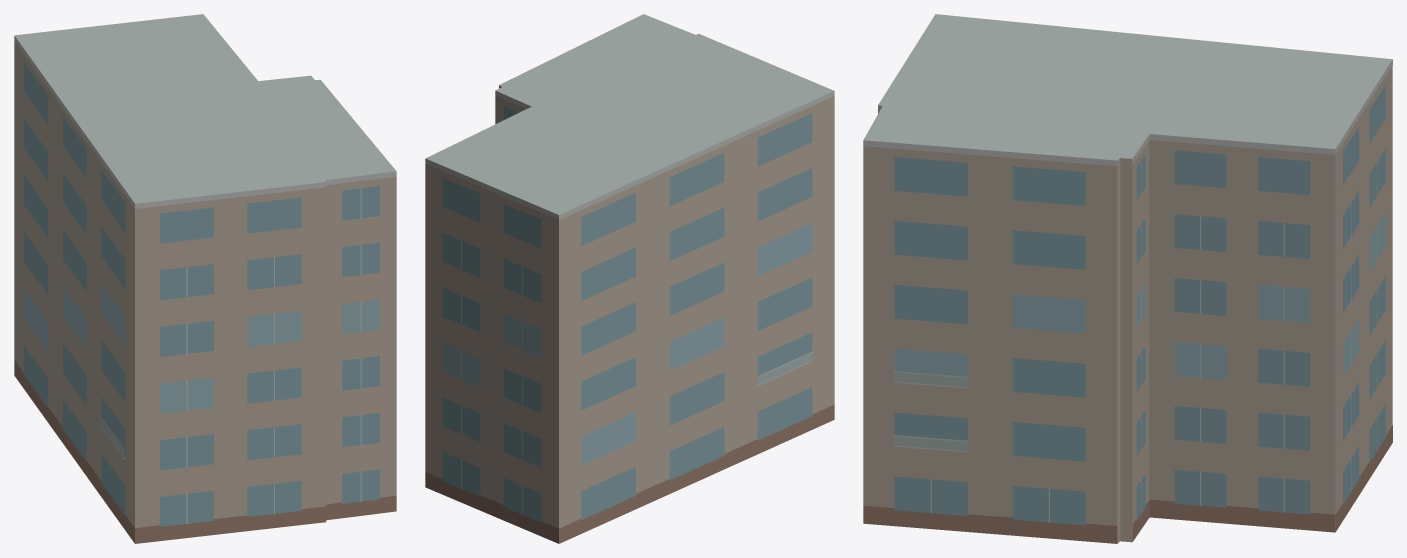
Rendered from survey-upis-32840369.glb.
The picture shows the model from 3 angles, left to right: view 1: azimuth 30°, elevation 25°; view 2: azimuth 150°, elevation 25°; view 3: azimuth 270°, elevation 25°; orthographic projection. The views are drawn at different scales.
Parts seen in each view (by area): view 1: survey-upis-32840369.tmp; view 2: survey-upis-32840369.tmp; view 3: survey-upis-32840369.tmp.
Part boxes in pixels (x1,y1,x2,y2): survey-upis-32840369.tmp: (14,14,396,543); survey-upis-32840369.tmp: (425,14,834,543); survey-upis-32840369.tmp: (863,14,1392,543).
Size of the model in its own units: 12.96 by 15.8 by 19.79.
